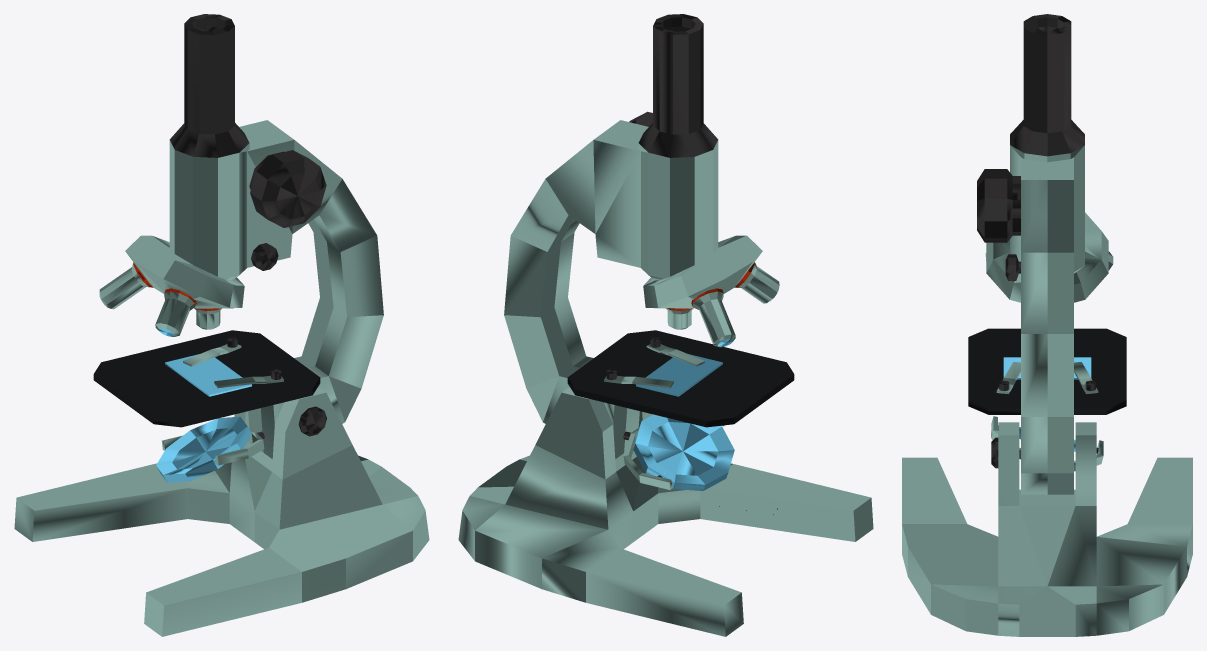
File: microscope (1).glb
3 views of the same model, side by side, from view 1: azimuth 30°, elevation 25°; view 2: azimuth 150°, elevation 25°; view 3: azimuth 270°, elevation 25° (orthographic).
Parts seen in each view (by area): view 1: Microscope; view 2: Microscope; view 3: Microscope.
Part boxes in pixels (x1=…): Microscope: x1=14, y1=14, x2=429, y2=636; Microscope: x1=458, y1=14, x2=873, y2=636; Microscope: x1=902, y1=14, x2=1192, y2=636.
Bounding box in the file's own units: 22.4 × 36.32 × 18.38.
1 material, 1 textured.
